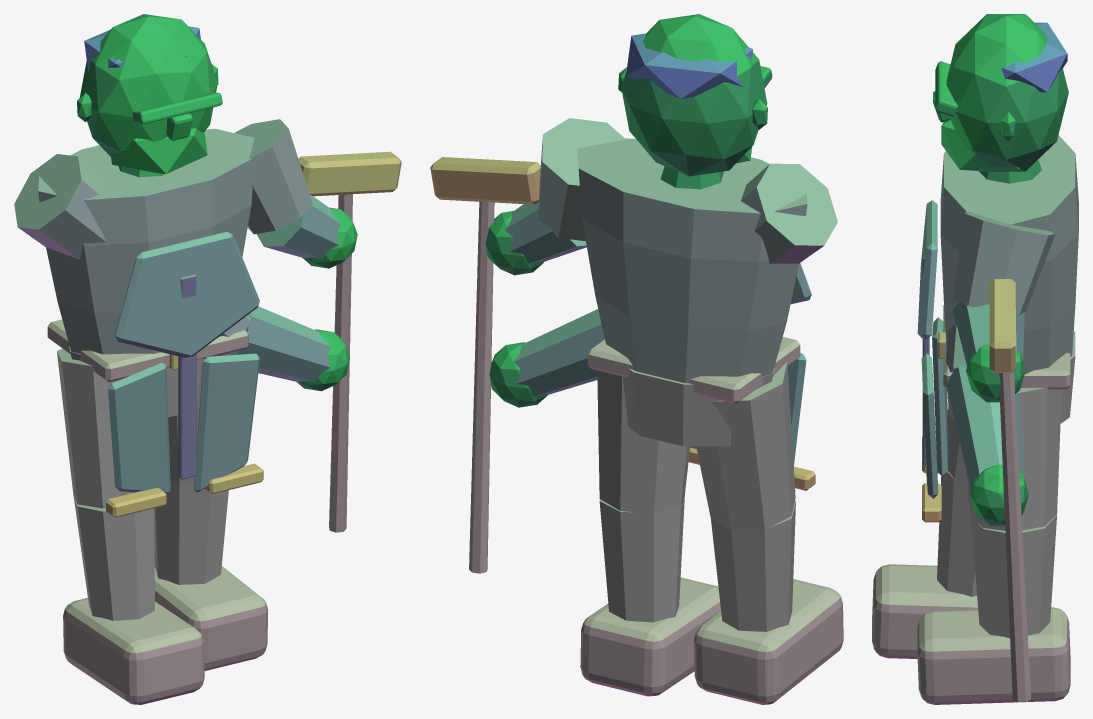
File: npc_laborer_work_v01.glb
3 renders of one model, left to right at view 1: azimuth 30°, elevation 25°; view 2: azimuth 150°, elevation 25°; view 3: azimuth 270°, elevation 25°, orthographic. The views are drawn at different scales.
Visible parts, largest first — view 1: GEO_npc_laborer_work_v01; view 2: GEO_npc_laborer_work_v01; view 3: GEO_npc_laborer_work_v01.
Boxes of the visible parts, box(x1,y1,x2,y2) form: GEO_npc_laborer_work_v01: box(14, 14, 401, 704); GEO_npc_laborer_work_v01: box(430, 14, 843, 704); GEO_npc_laborer_work_v01: box(872, 14, 1078, 704).
Bounding box in the file's own units: 1.28 × 2.07 × 0.593.
